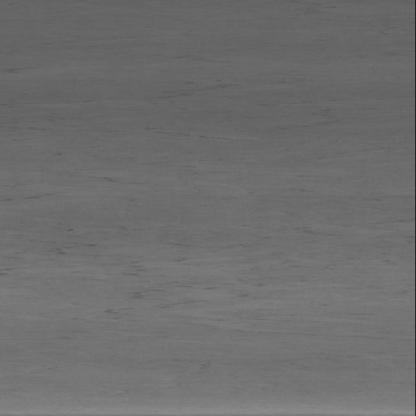silk_spot: (39, 165, 397, 314)
